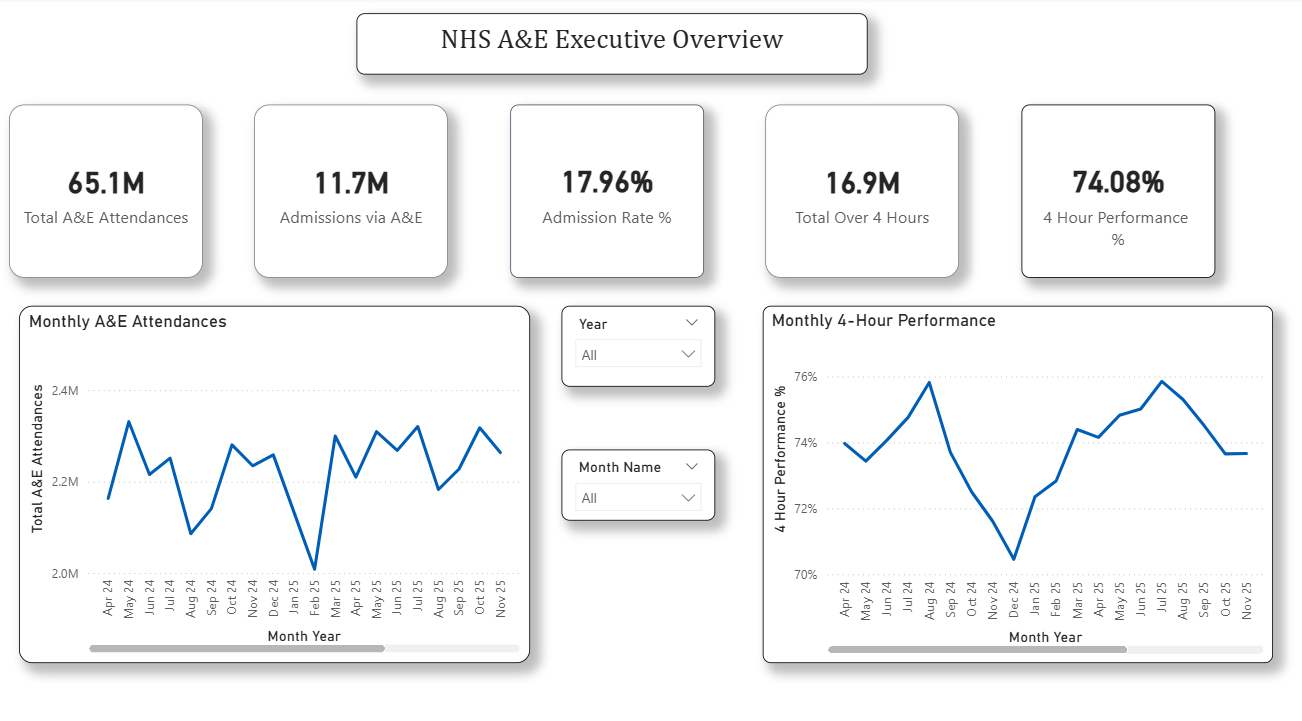

What the dashboard file says about the page in this screenshot:
{"tool":"powerbi","page":{"name":"Executive Overview","canvas":[1280,720],"ordinal":0},"visuals":[{"type":"card","fields":{"Values":["public ae_monthly_summary.Total A&E Attendances"]},"box":[10,105.2,189.5,170],"z":0},{"type":"card","fields":{"Values":["public ae_monthly_summary.Total Over 4 Hours"]},"box":[750,105.2,189.5,170],"z":1000},{"type":"card","fields":{"Values":["public ae_monthly_summary.Admissions via A&E"]},"box":[250,105.2,189.5,170],"z":2000},{"type":"card","fields":{"Values":["public ae_monthly_summary.Admission Rate %"]},"box":[500,105.2,189.5,170],"z":3000},{"type":"card","fields":{"Values":["public ae_monthly_summary.4 Hour Performance %"]},"box":[1000,105.2,189.5,170],"z":4000},{"type":"lineChart","title":"Monthly A&E Attendances","fields":{"Y":["public ae_monthly_summary.Total A&E Attendances"],"Category":["DateTable.Month Year"]},"box":[19.6,302,500.1,349.7],"z":5000},{"type":"lineChart","title":"Monthly 4-Hour Performance","fields":{"Y":["public ae_monthly_summary.4 Hour Performance %"],"Category":["DateTable.Month Year"]},"box":[747.2,302,498.9,349.7],"z":6000},{"type":"slicer","fields":{"Values":["DateTable.Year"]},"box":[550,302,150.4,79.5],"z":7000},{"type":"slicer","fields":{"Values":["DateTable.Month Name"]},"box":[550,442.7,150.4,69.7],"z":8000},{"type":"textbox","box":[350,15.9,500,60],"z":9000}]}

Visuals, with their boxes in screenshot pixels (x1, y1, x2, y2), scaled from the page's 1280x720 canvas onto the 1302x721 screenshot:
card - public ae_monthly_summary.Total A&E Attendances: bbox=[10, 105, 203, 276]
card - public ae_monthly_summary.Total Over 4 Hours: bbox=[763, 105, 956, 276]
card - public ae_monthly_summary.Admissions via A&E: bbox=[254, 105, 447, 276]
card - public ae_monthly_summary.Admission Rate %: bbox=[509, 105, 701, 276]
card - public ae_monthly_summary.4 Hour Performance %: bbox=[1017, 105, 1210, 276]
"Monthly A&E Attendances" lineChart: bbox=[20, 302, 529, 653]
"Monthly 4-Hour Performance" lineChart: bbox=[760, 302, 1268, 653]
slicer - DateTable.Year: bbox=[559, 302, 712, 382]
slicer - DateTable.Month Name: bbox=[559, 443, 712, 513]
textbox: bbox=[356, 16, 865, 76]
